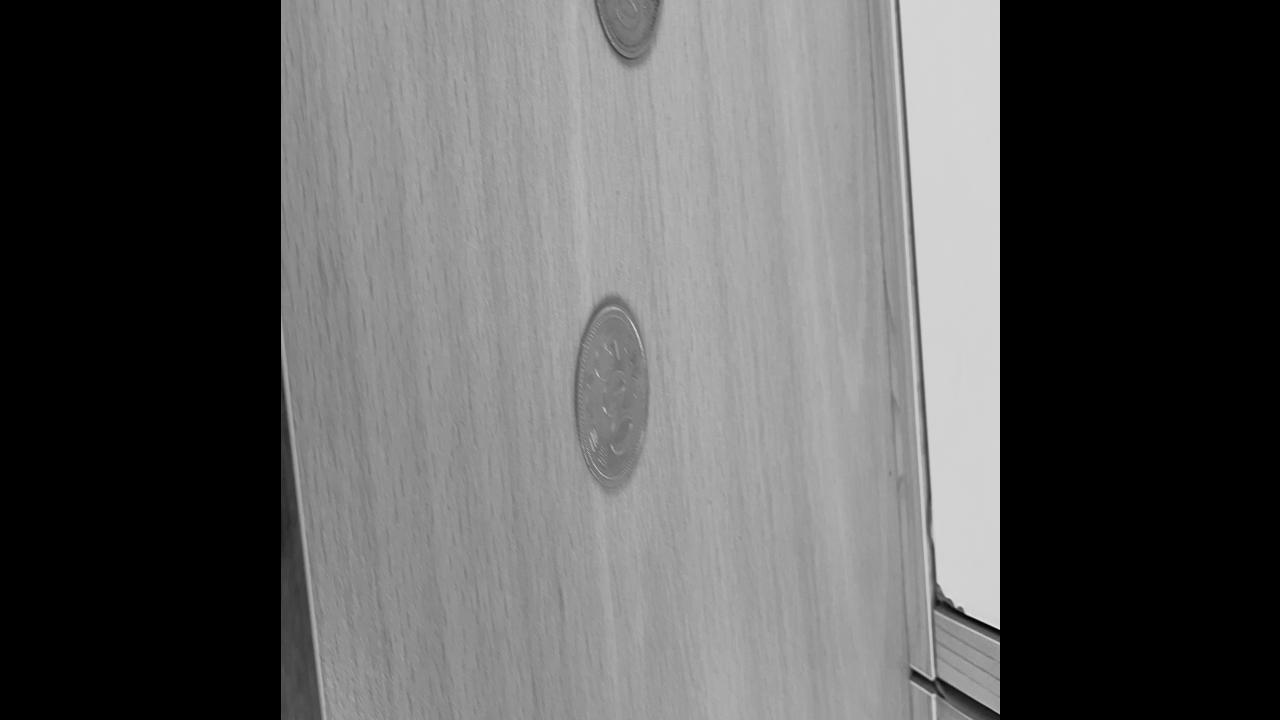coin: (572, 301, 650, 497), (587, 0, 667, 67)
